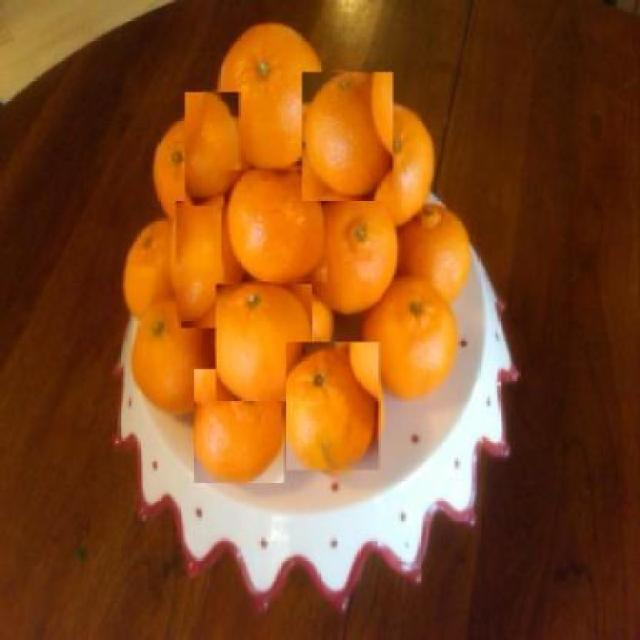Orange: (216, 24, 322, 174), (286, 342, 379, 470), (302, 72, 393, 200), (224, 170, 327, 282), (357, 278, 455, 392), (216, 284, 312, 400), (306, 197, 400, 311), (126, 294, 217, 408), (193, 369, 284, 483), (394, 206, 472, 306), (373, 102, 433, 224), (118, 214, 182, 312), (153, 116, 204, 212)
